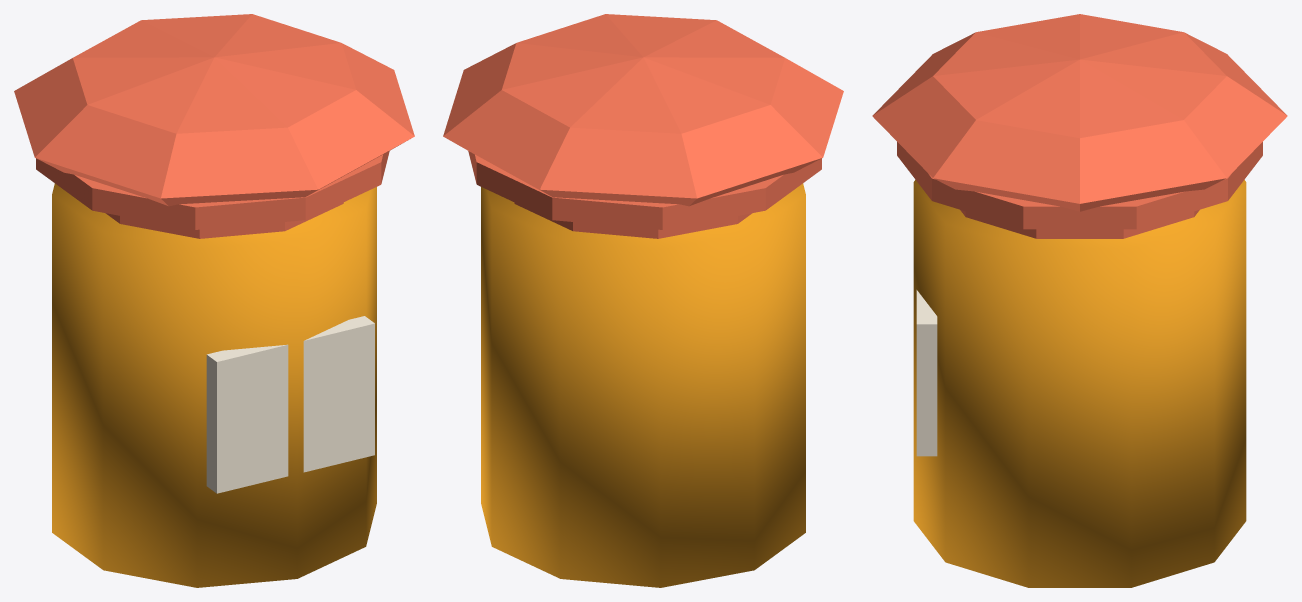
The model's file is good_honey.glb.
3 renders of one model, left to right at view 1: azimuth 30°, elevation 25°; view 2: azimuth 150°, elevation 25°; view 3: azimuth 270°, elevation 25°, orthographic.
Parts seen in each view (by area): view 1: good_honey; view 2: good_honey; view 3: good_honey.
Part boxes in pixels (left/top/right/bottom): good_honey: left=14, top=14, right=414, bottom=587; good_honey: left=443, top=14, right=843, bottom=587; good_honey: left=872, top=14, right=1287, bottom=587.
Size of the model in its own units: 0.2 by 0.245 by 0.2.
